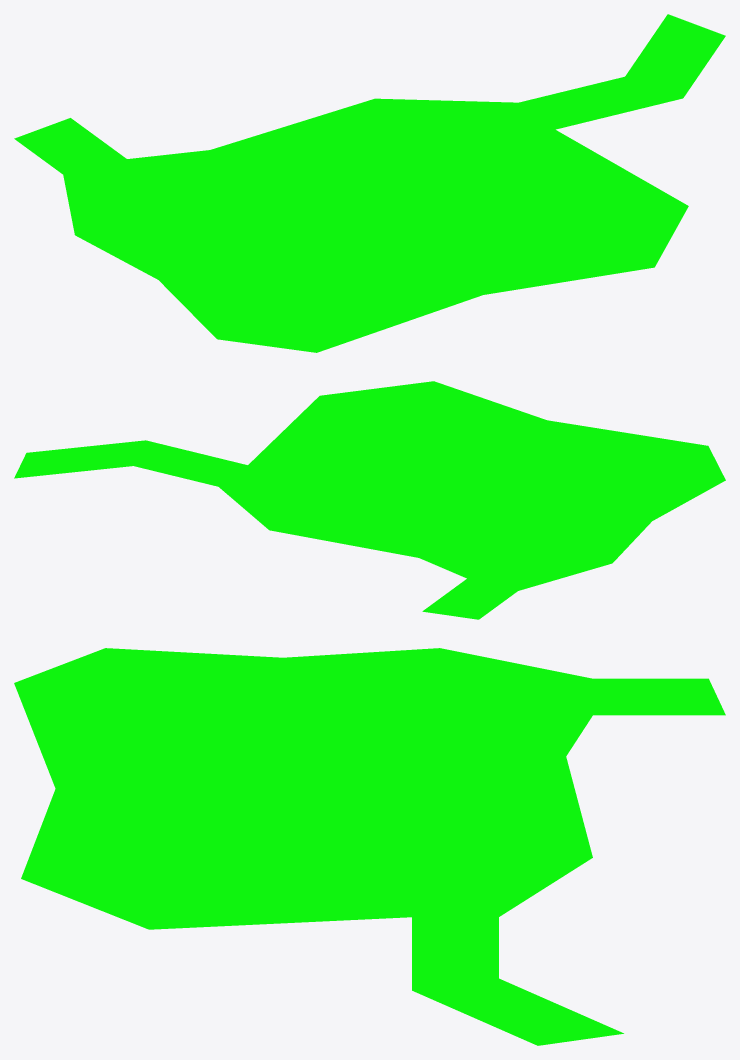
File: s01a_lb1-floor.glb
3 views of the same model, one above another, from view 1: azimuth 30°, elevation 25°; view 2: azimuth 150°, elevation 25°; view 3: azimuth 270°, elevation 25° (orthographic). The views are drawn at different scales.
Parts seen in each view (by area): view 1: collision_floor-colonly; view 2: collision_floor-colonly; view 3: collision_floor-colonly.
Part boxes in pixels (bbox=[...]): collision_floor-colonly: bbox=[14, 14, 725, 352]; collision_floor-colonly: bbox=[14, 381, 725, 619]; collision_floor-colonly: bbox=[14, 648, 725, 1045].
Size of the model in its own units: 65.03 by 0 by 49.19.
